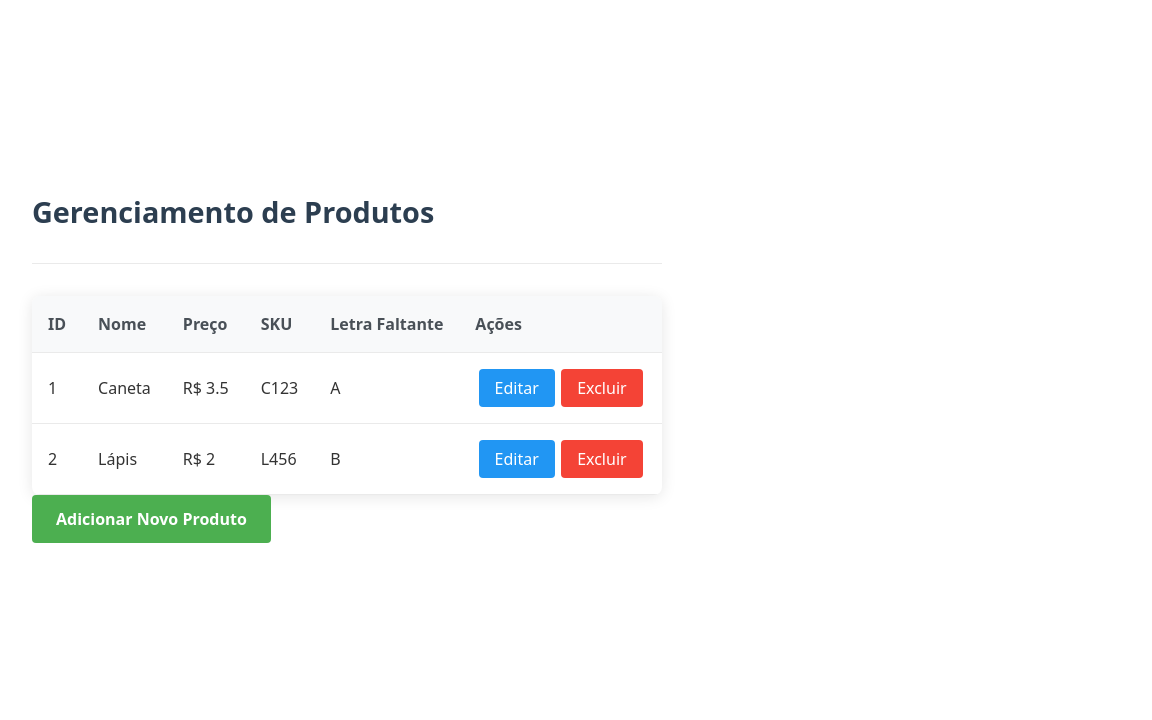
Test: ProductsList › opens confirmation modal when clicking delete
The image size is (1152, 720).
Expected: the text "Caneta" is shown, top-left (82, 353), bottom-right (167, 424)
Click the button "Excluir" in the row of "Caneta" at {"x": 602, "y": 388}, box top-left (561, 369), bottom-right (643, 407)
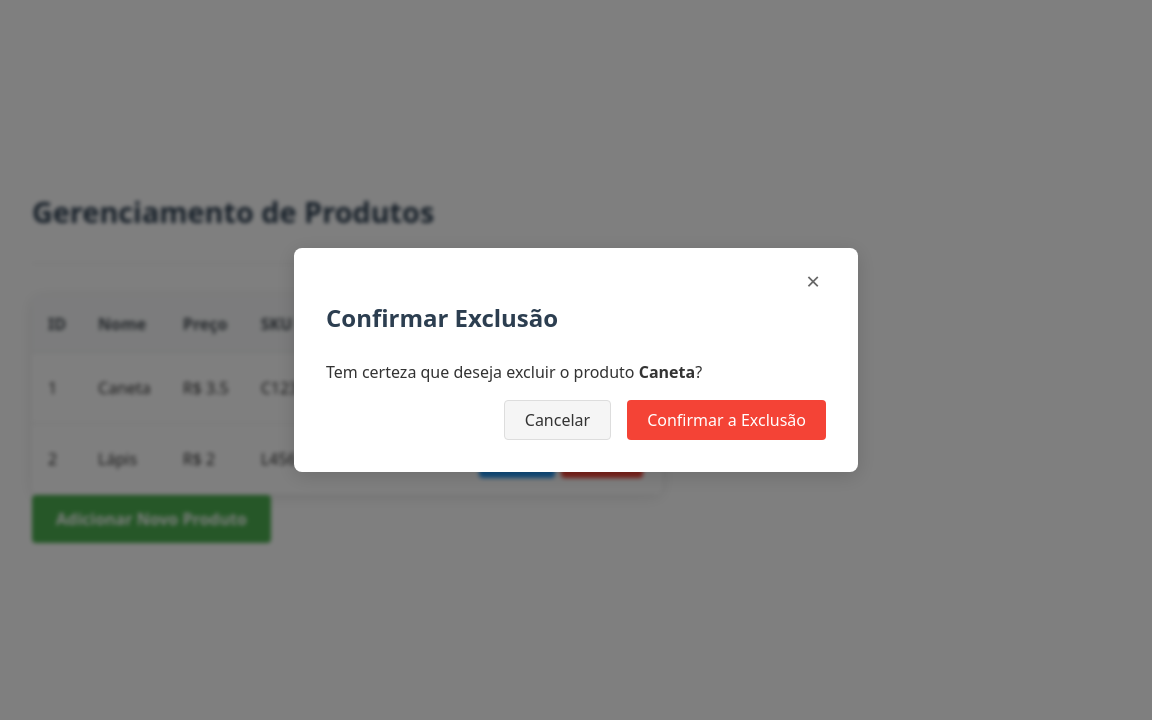
Expected: the heading "Confirmar Exclusão" is shown, top-left (326, 301), bottom-right (558, 334)
